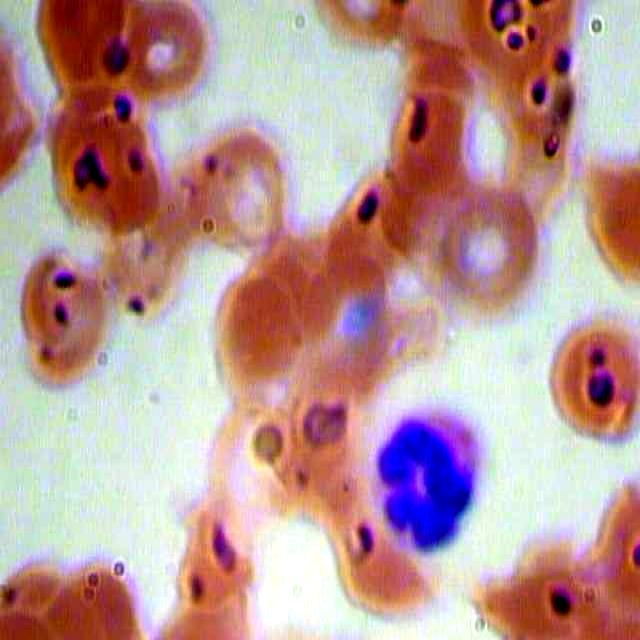RBC: (38, 104, 163, 236), (431, 178, 548, 318), (21, 249, 118, 384), (194, 121, 291, 256), (543, 307, 640, 441), (383, 81, 483, 208), (210, 271, 303, 401), (169, 494, 257, 602), (118, 1, 206, 108)
WBC: (366, 393, 493, 556)
